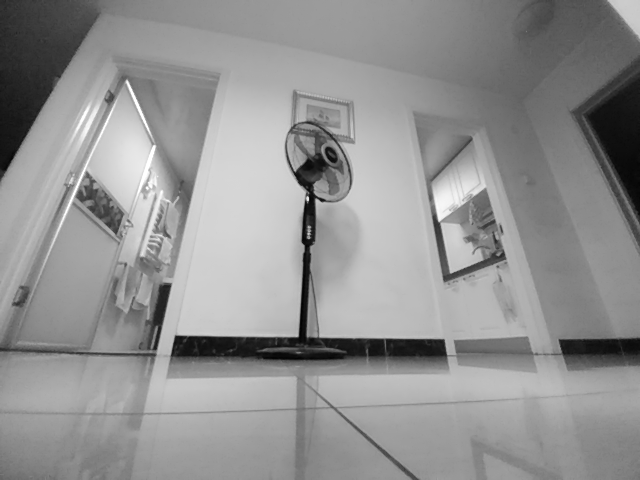bar stool: (255, 333, 348, 362)
